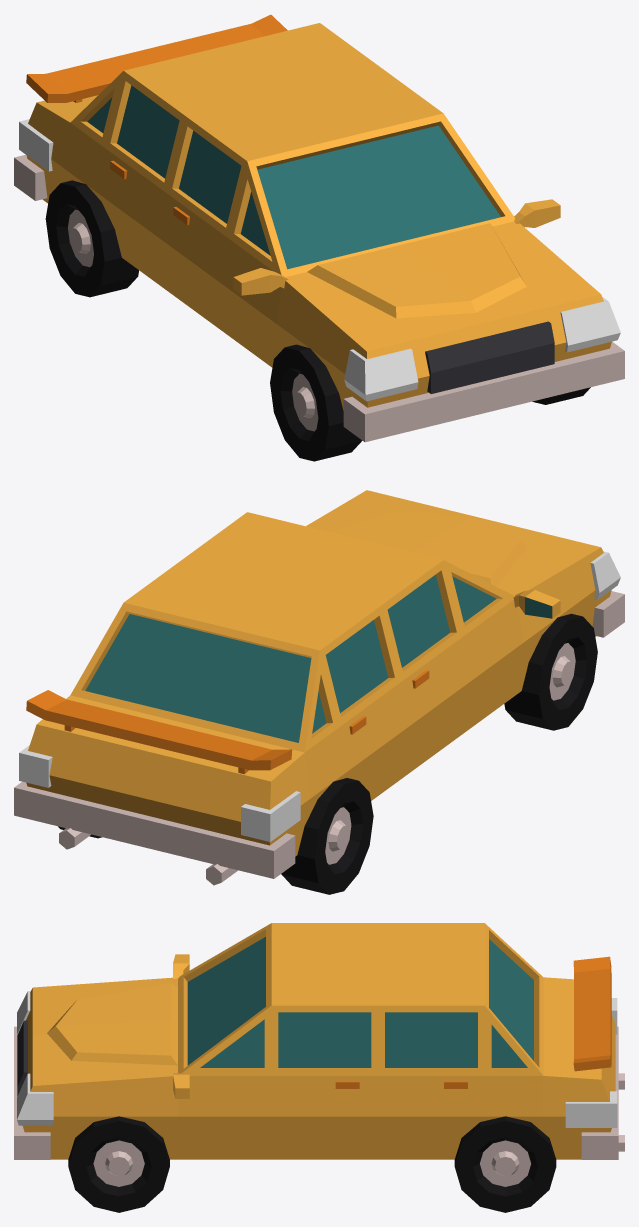
File: SubCarMesh.fbx
The picture shows the model from 3 angles, top to bottom: view 1: azimuth 30°, elevation 25°; view 2: azimuth 150°, elevation 25°; view 3: azimuth 270°, elevation 25°; orthographic projection. The views are drawn at different scales.
Parts seen in each view (by area): view 1: Car; view 2: Car; view 3: Car.
Boxes of the visible parts, x1,y1,x2,y2 form: Car: (14,14,624,461); Car: (14,490,624,894); Car: (14,923,624,1212).
Size of the model in its own units: 272 by 182 by 524.
3 materials, 1 textured.
